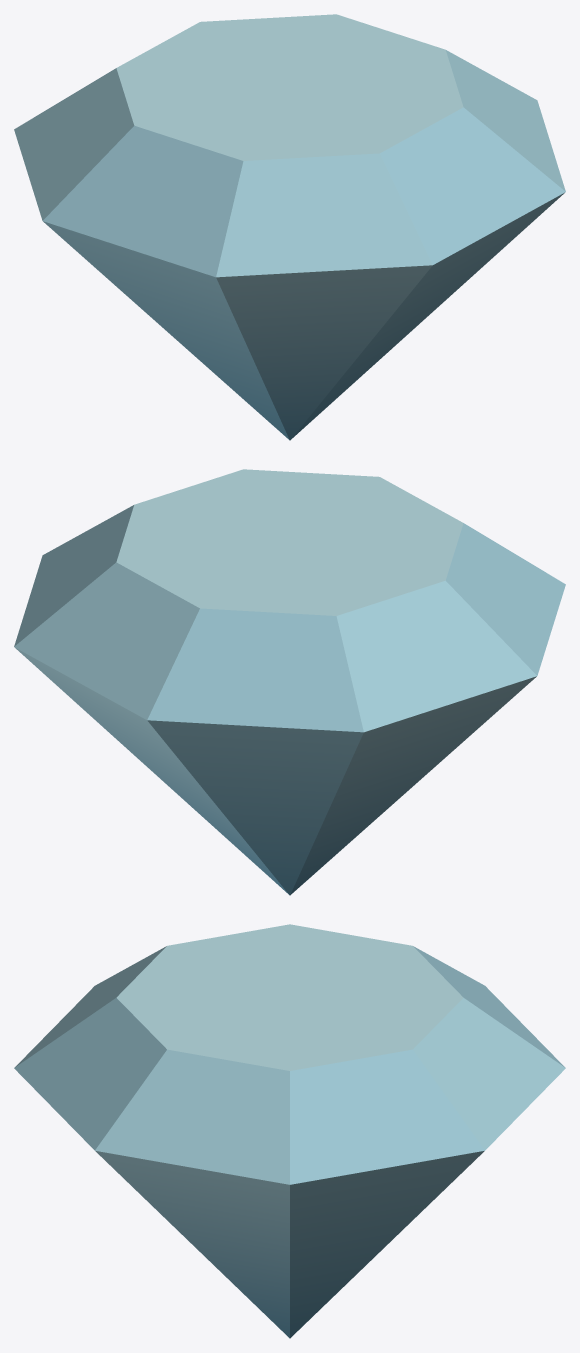
Rendered from geology-crystals-diamond_v1.fbx.
The picture shows the model from 3 angles, top to bottom: view 1: azimuth 30°, elevation 25°; view 2: azimuth 150°, elevation 25°; view 3: azimuth 270°, elevation 25°; orthographic projection. The views are drawn at different scales.
Parts seen in each view (by area): view 1: Diamond_v1; view 2: Diamond_v1; view 3: Diamond_v1.
Boxes of the visible parts, <box> form: Diamond_v1: <box>14,14,565,440</box>; Diamond_v1: <box>14,469,565,895</box>; Diamond_v1: <box>14,924,565,1338</box>.
Bounding box in the file's own units: 0.6694 × 0.4563 × 0.6694.
